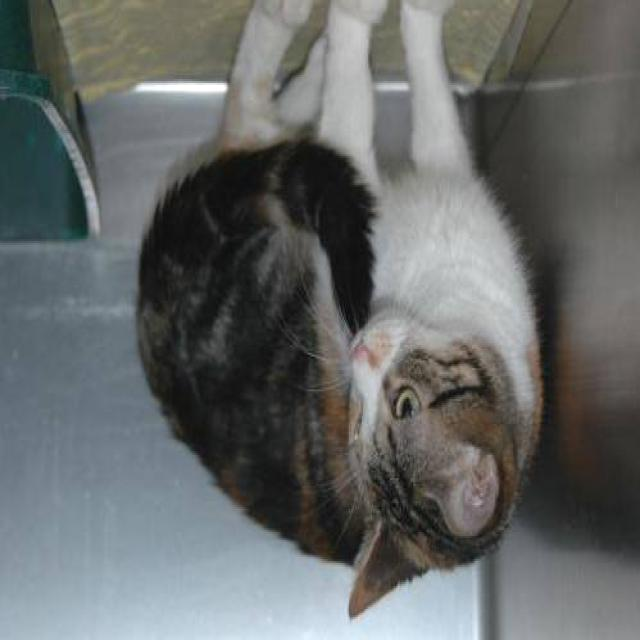Kucing: (134, 66, 546, 619)
